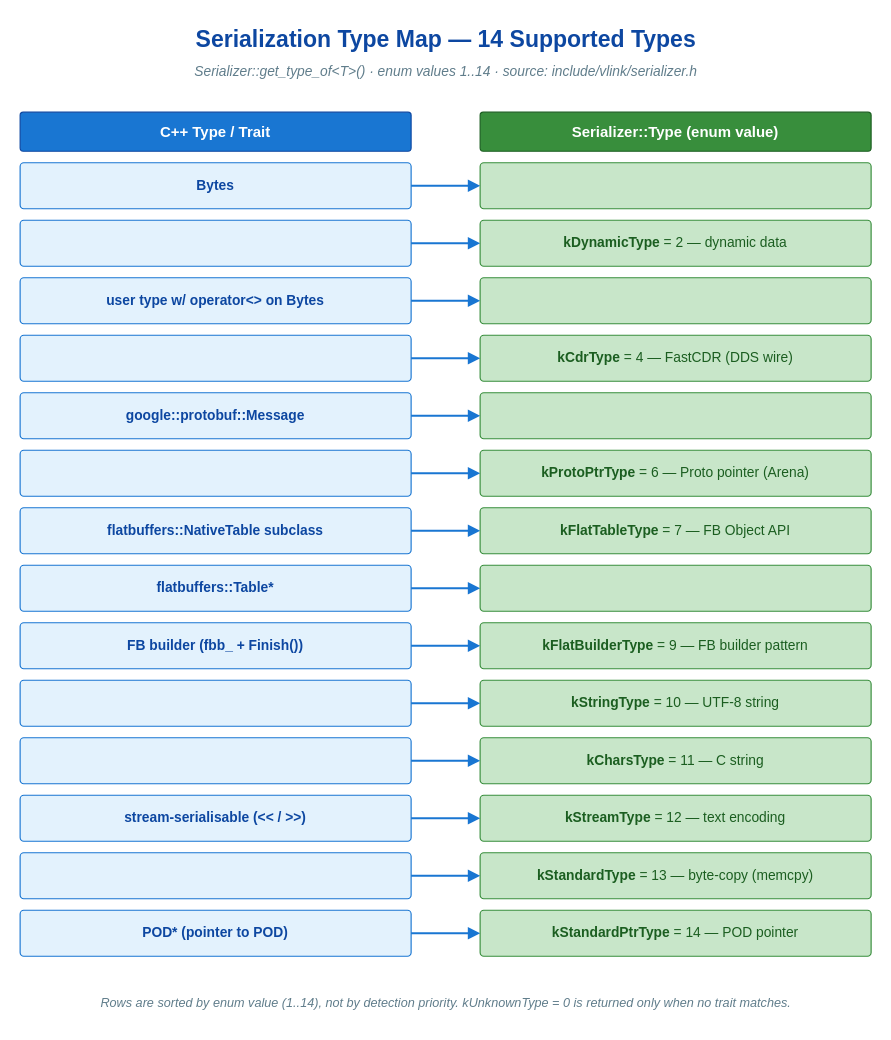
Image size: 891x1040. Some labels were removed from this diagram. The shapes that lost their labels are listed below. From the top down, each one's box as (x1, y1, x2, y2) in pixels, then its label:
(479, 162, 871, 209): kBytesType = 1 — pass-through
(19, 219, 411, 266): types with is_vlink_dynamic_data()
(479, 277, 871, 324): kCustomType = 3 — user codec
(19, 334, 411, 381): struct w/ serialize(Cdr&)
(479, 392, 871, 439): kProtoType = 5 — Protobuf value
(19, 449, 411, 496): google::protobuf::Message*
(479, 564, 871, 611): kFlatPtrType = 8 — FB zero-copy read
(19, 679, 411, 726): std::string
(19, 737, 411, 784): const char* / string literal
(19, 852, 411, 899): POD (trivial + standard_layout)
